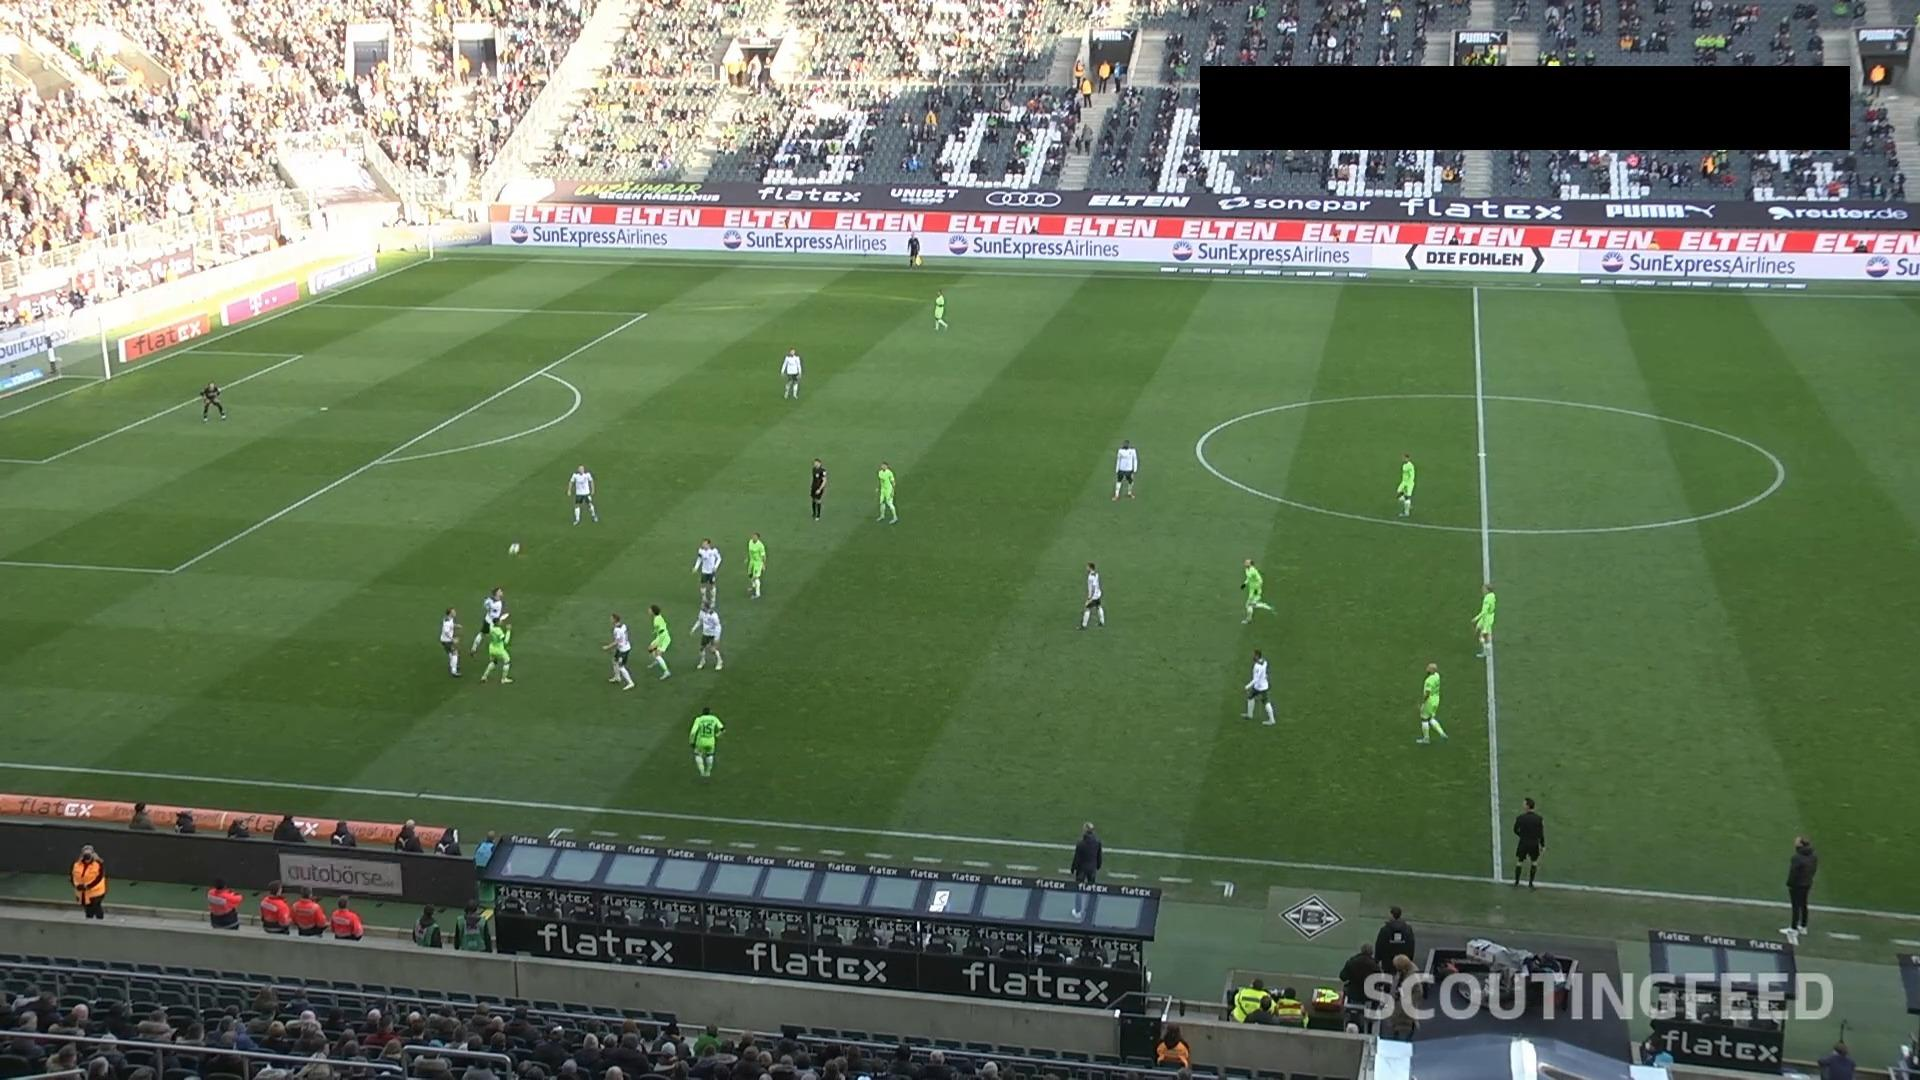ball: (507, 543, 519, 555)
coach: (1069, 820, 1102, 918), (1785, 834, 1817, 934)
player: (476, 613, 513, 684), (1415, 661, 1447, 743), (1241, 648, 1275, 725), (688, 705, 724, 777), (600, 612, 633, 690), (470, 586, 506, 655), (689, 599, 723, 671), (1238, 556, 1273, 624), (691, 537, 721, 607), (644, 603, 671, 680), (1077, 561, 1105, 629), (567, 464, 598, 525), (1471, 582, 1495, 657), (438, 607, 462, 676), (1111, 438, 1137, 500), (874, 460, 898, 524), (744, 531, 766, 598), (1394, 452, 1415, 517), (779, 346, 802, 399), (199, 380, 226, 422), (932, 287, 948, 331)
referee: (1511, 796, 1545, 889), (809, 457, 827, 520), (906, 229, 924, 274)
